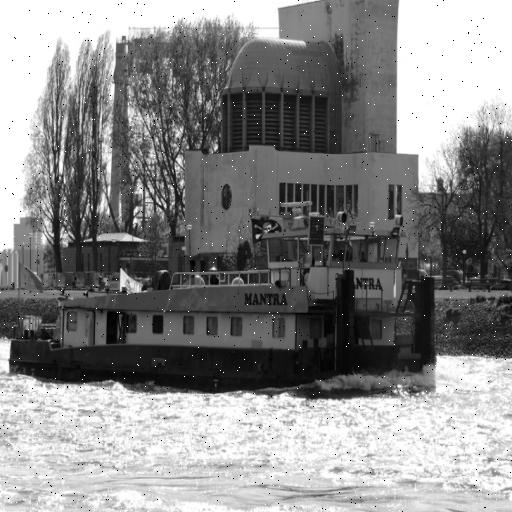tugboat: (7, 198, 439, 401)
